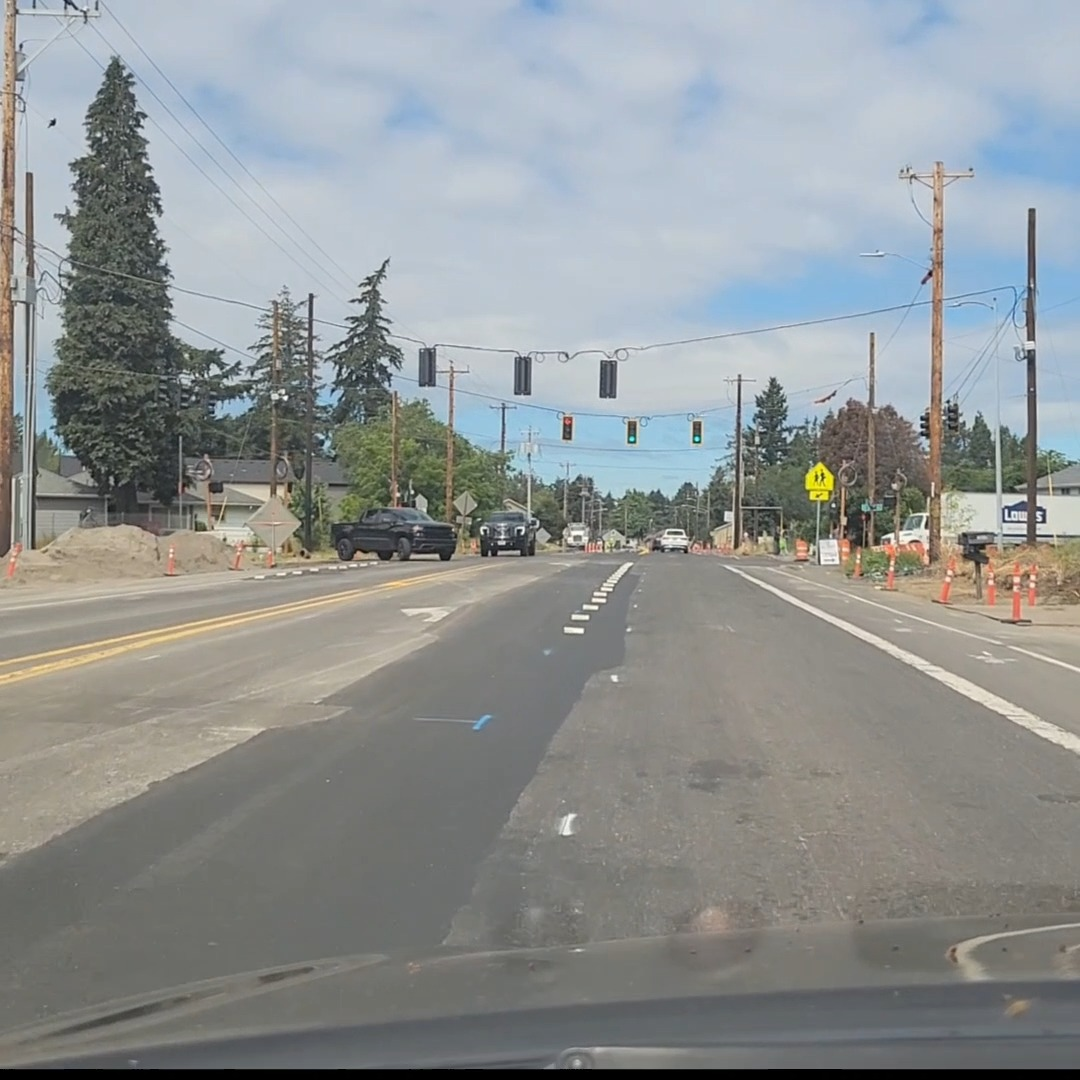car: (330, 506, 456, 562), (476, 511, 541, 557), (650, 528, 690, 553), (563, 522, 590, 550)
crosswalk-sign: (804, 461, 833, 500)
delineator: (1003, 566, 1028, 623), (937, 553, 956, 604), (985, 561, 997, 605), (231, 540, 245, 570), (852, 547, 863, 576), (263, 542, 275, 568), (166, 545, 176, 575)
